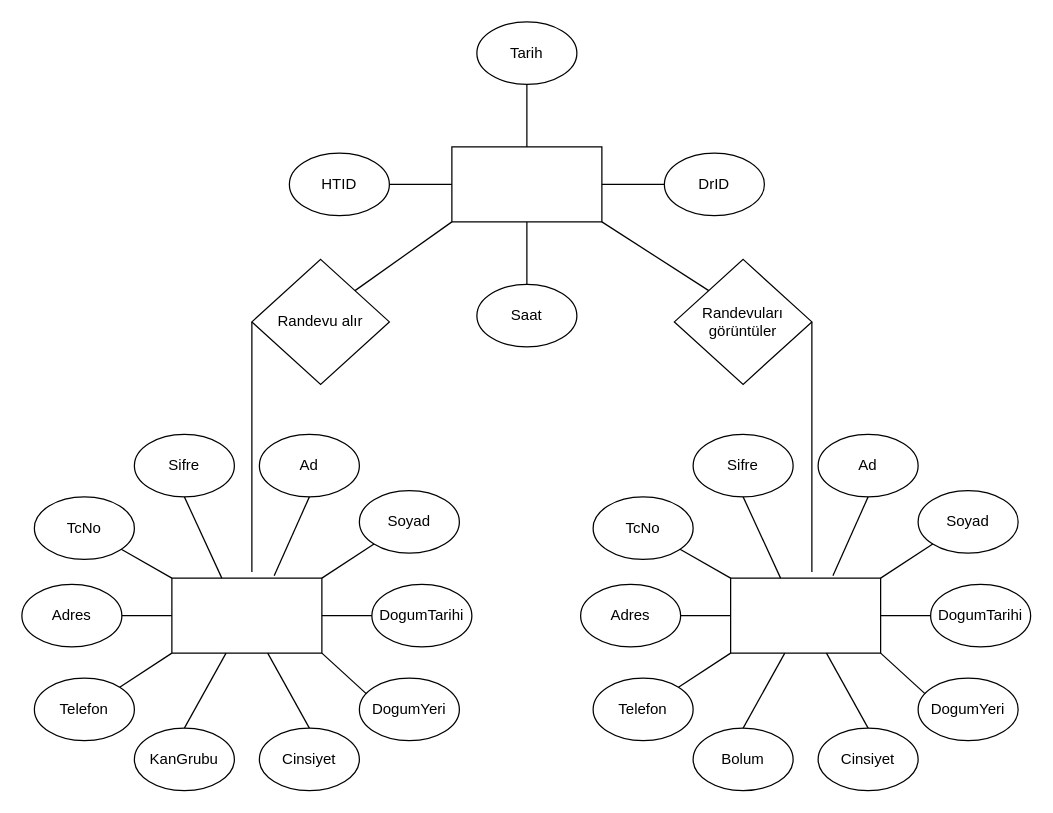
The diagram is 1053 pixels wide and 813 high, and some of its shapes have lost their labels. Each missing label, with the box of its shape:
DOKTOR: (729, 577, 881, 653)
HASTA: (171, 577, 322, 653)
RANDEVU: (451, 146, 602, 222)
